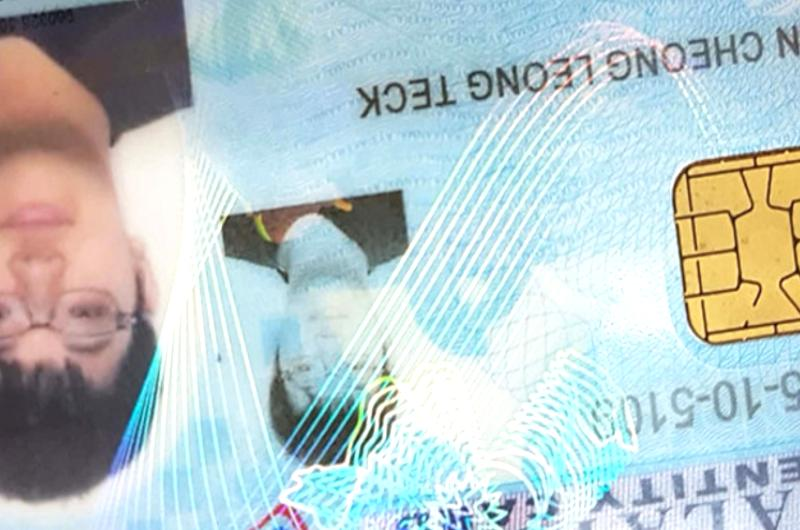hologram: (420, 107, 594, 336)
